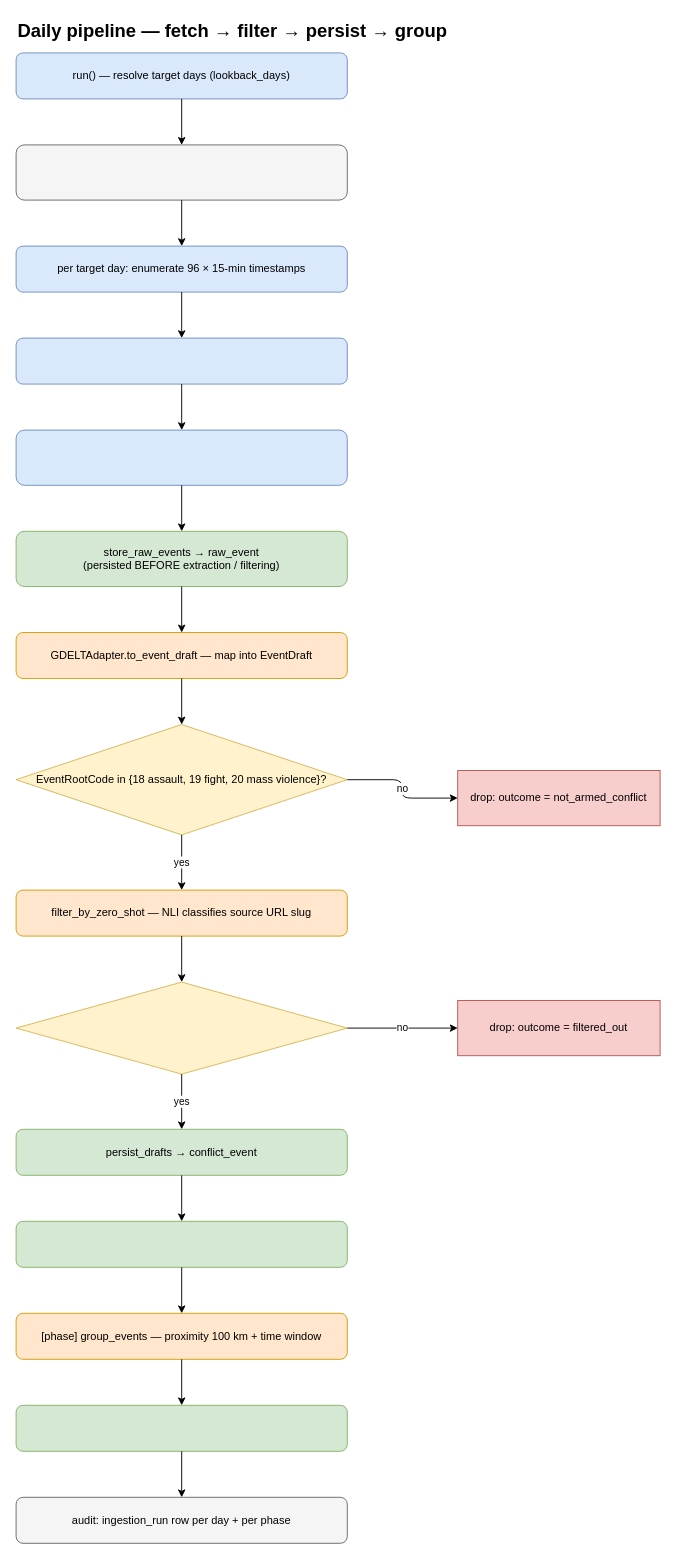
This 676x1559 diagram has some shape labels left out. Here are the shapes that lost their labels. From the top down, the centre of each, then its label:
At point 181,172: "[phase] retry_stranded_raw_days process pending raw rows from prior crashed days".
At point 181,360: "download .export.CSV.zip (404 → skip, 5xx → fail)".
At point 181,457: "parse 61-col TSV (positional, no header) dedupe by GLOBALEVENTID".
At point 181,1027: "passes? (skipped if model unavailable)".
At point 181,1243: "mark_raw_events outcome".
At point 181,1427: "[phase] prune_raw_events — raw_retention_days (30)".
